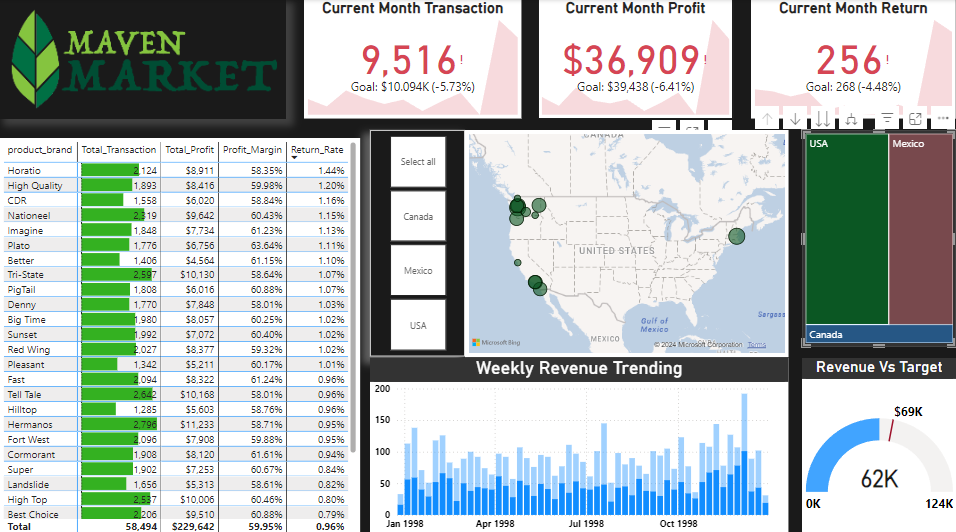

This screenshot's page, from the dashboard's own definition file:
{"tool":"powerbi","page":{"name":"Topline Performance","canvas":[1280,720],"ordinal":0},"visuals":[{"type":"image","box":[0,0,382.6,159.7],"z":0},{"type":"pivotTable","fields":{"Rows":["Products.product_brand"],"Values":["Measures Table.Total_Transaction","Measures Table.Total_Profit","Measures Table.Profit_Margin","Measures Table.Return_Rate"]},"box":[0,185.8,481.7,534],"z":1000},{"type":"kpi","title":"Current  Month Transaction","fields":{"Indicator":["Measures Table.Total_Transaction"],"TrendLine":["Calendar.Start of Month"],"Goal":["Measures Table.Last_Month_Transaction"]},"box":[407.1,0,291.4,160],"z":2000},{"type":"kpi","title":"Current Month Profit","fields":{"TrendLine":["Calendar.Start of Month"],"Indicator":["Measures Table.Total_Profit"],"Goal":["Measures Table.Last_Month_Profit"]},"box":[720,0,261.4,160],"z":3000},{"type":"kpi","title":"Current  Month Return","fields":{"TrendLine":["Calendar.Start of Month"],"Indicator":["Measures Table.Total_Returns"],"Goal":["Measures Table.Last_Month_Return"]},"box":[1005.7,0,274.3,160],"z":4000},{"type":"map","fields":{"Size":["Measures Table.Total_Transaction"],"Category":["Stores.store_city"]},"box":[622.9,175.7,432.9,304.3],"z":5000},{"type":"slicer","fields":{"Values":["Stores.store_country"]},"box":[495.7,175.7,127.1,302.9],"z":6000},{"type":"treemap","fields":{"Values":["Measures Table.Total_Transaction"],"Group":["Stores.store_country","Stores.store_state","Stores.store_city"]},"box":[1072.9,175.7,207.1,290],"z":7000},{"type":"columnChart","title":"Weekly Revenue Trending","fields":{"Y":["Measures Table.Total_Returns"],"Category":["Calendar.Start of Week"]},"box":[495.7,480,560,240],"z":8000},{"type":"gauge","title":"Revenue Vs Target","fields":{"Y":["Measures Table.Total_Revenue"],"TargetValue":["Measures Table.Revenue_Target"]},"box":[1072.9,480,207.1,240],"z":9000}]}

Visuals, with their boxes in screenshot pixels (x1, y1, x2, y2), scaled from the page's 1280x720 canvas onto the 956x532 screenshot:
image: <box>0,0,286,118</box>
pivotTable - Products.product_brand x Measures Table.Total_Transaction: <box>0,137,360,531</box>
"Current  Month Transaction" kpi: <box>304,0,522,118</box>
"Current Month Profit" kpi: <box>538,0,733,118</box>
"Current  Month Return" kpi: <box>751,0,955,118</box>
map - Measures Table.Total_Transaction x Stores.store_city: <box>465,130,789,355</box>
slicer - Stores.store_country: <box>370,130,465,354</box>
treemap - Measures Table.Total_Transaction x Stores.store_country: <box>801,130,955,344</box>
"Weekly Revenue Trending" columnChart: <box>370,355,788,531</box>
"Revenue Vs Target" gauge: <box>801,355,955,531</box>
